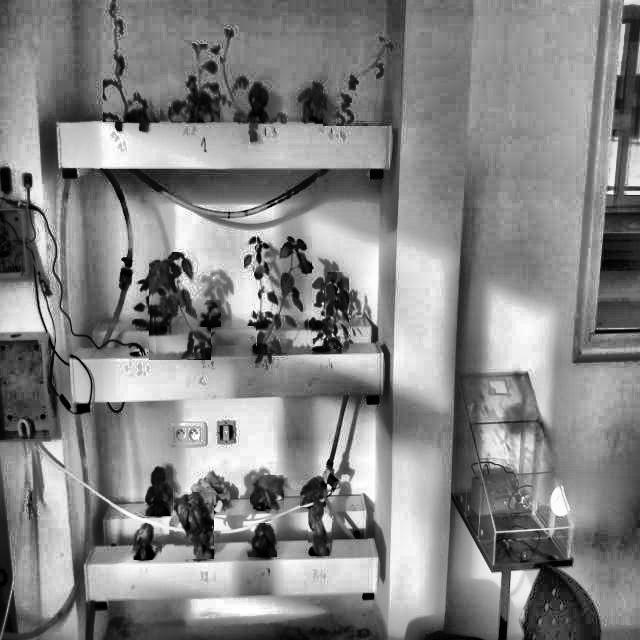plants: (103, 0, 160, 122), (149, 252, 211, 360), (323, 34, 393, 126), (257, 236, 312, 353), (210, 28, 277, 122), (172, 44, 220, 122), (310, 272, 349, 349), (244, 236, 276, 326), (174, 492, 214, 559), (132, 275, 171, 330), (145, 463, 173, 516), (308, 503, 332, 556), (133, 519, 162, 560), (250, 475, 284, 509), (248, 523, 277, 557), (300, 476, 327, 507), (196, 300, 221, 327)
